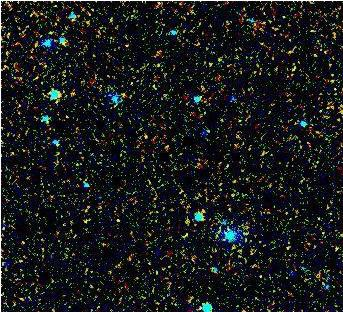star: (187, 195, 217, 225)
